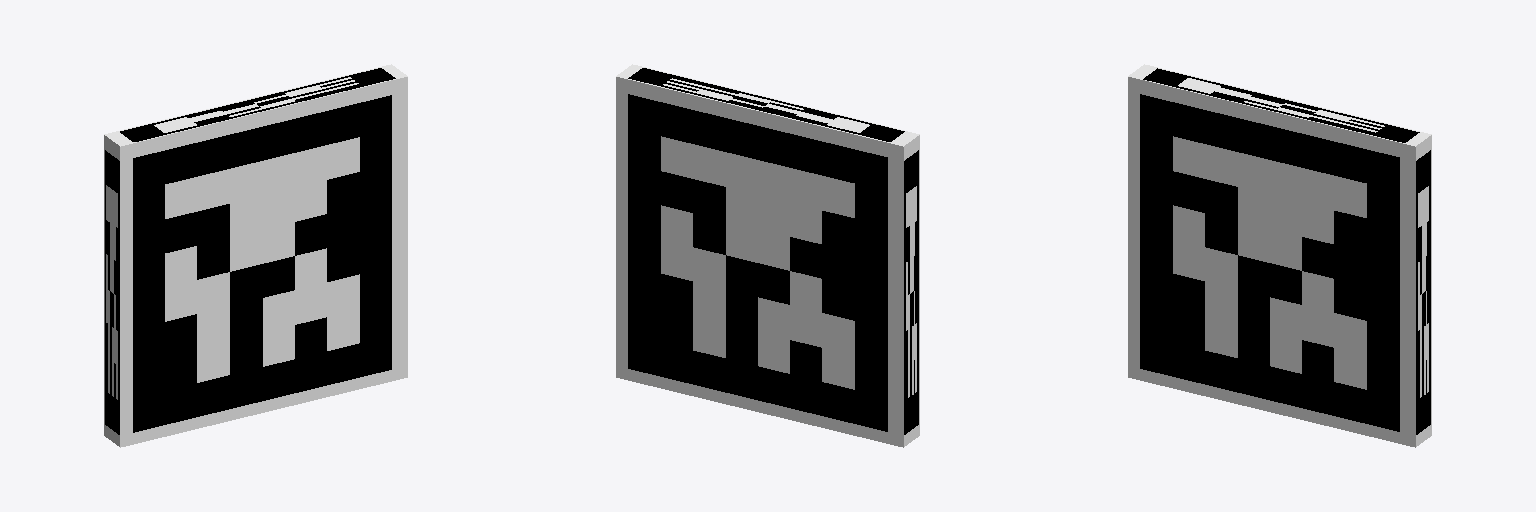
3 renders of one model, left to right at view 1: azimuth 30°, elevation 25°; view 2: azimuth 150°, elevation 25°; view 3: azimuth 330°, elevation 25°, orthographic.
Parts seen in each view (by area): view 1: Cube; view 2: Cube; view 3: Cube.
Part boxes in pixels (x1,y1,x2,y2): Cube: (104, 64, 407, 447); Cube: (616, 64, 919, 447); Cube: (1128, 64, 1431, 447).
Size of the model in its own units: 2 by 2 by 0.2.
Materials: 1 (1 with a texture image).